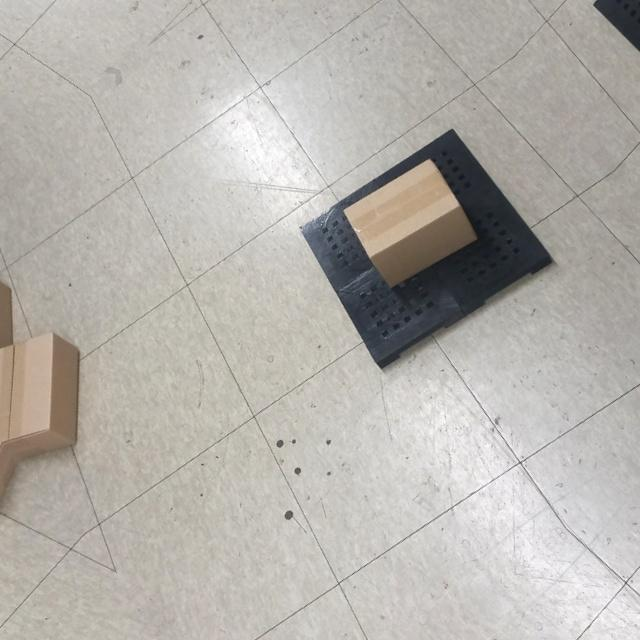box: (338, 155, 482, 289), (0, 328, 81, 468)
pallet: (294, 120, 560, 376)
